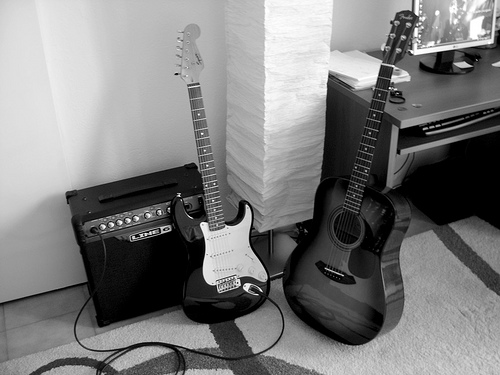guitar: (280, 8, 423, 347)
